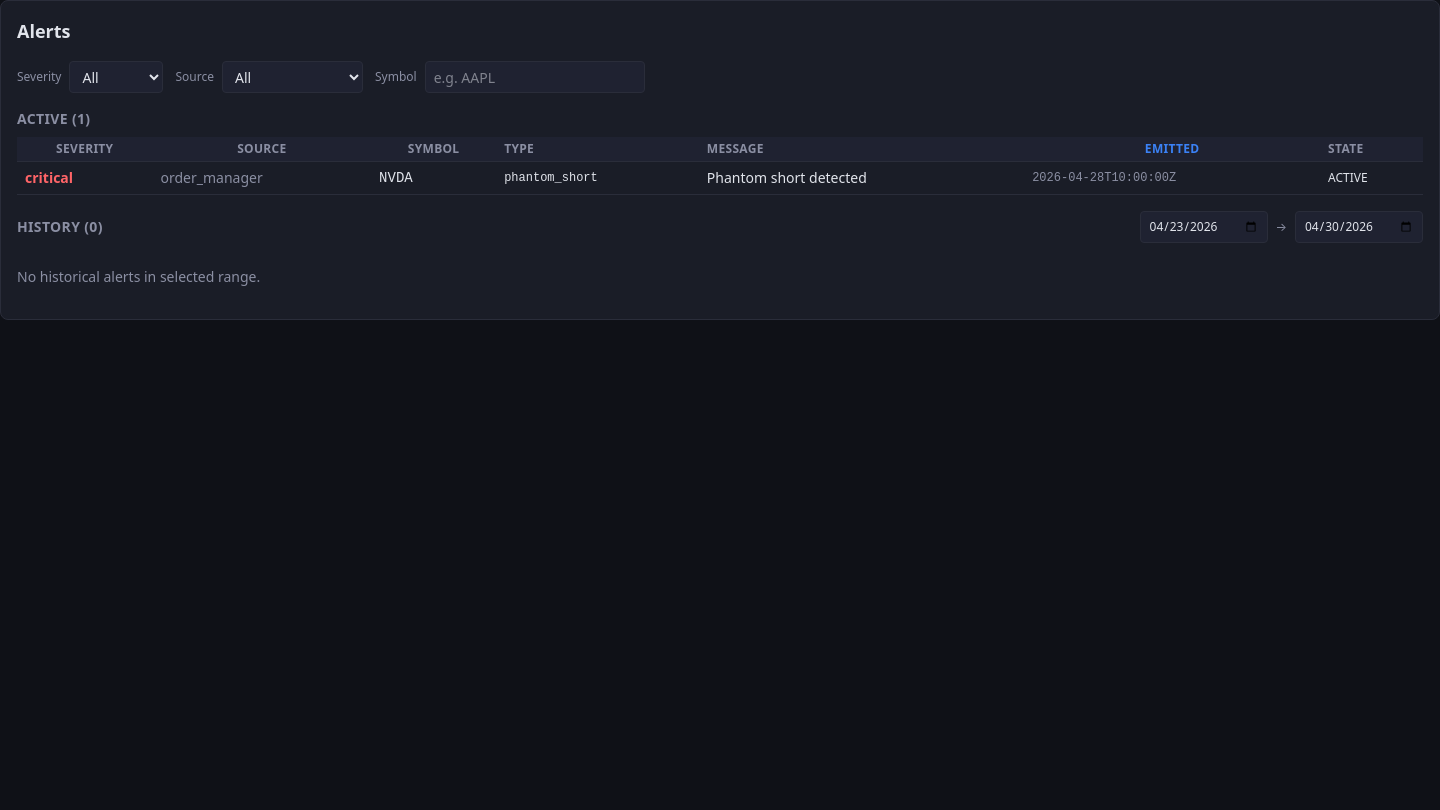
Scenario: AlertsPanel › opens detail view with metadata and audit trail when a row is clicked
Click the button with test id "alerts-table-active-row-detail-1".
click(720, 178)  # box [17,162,1423,194]
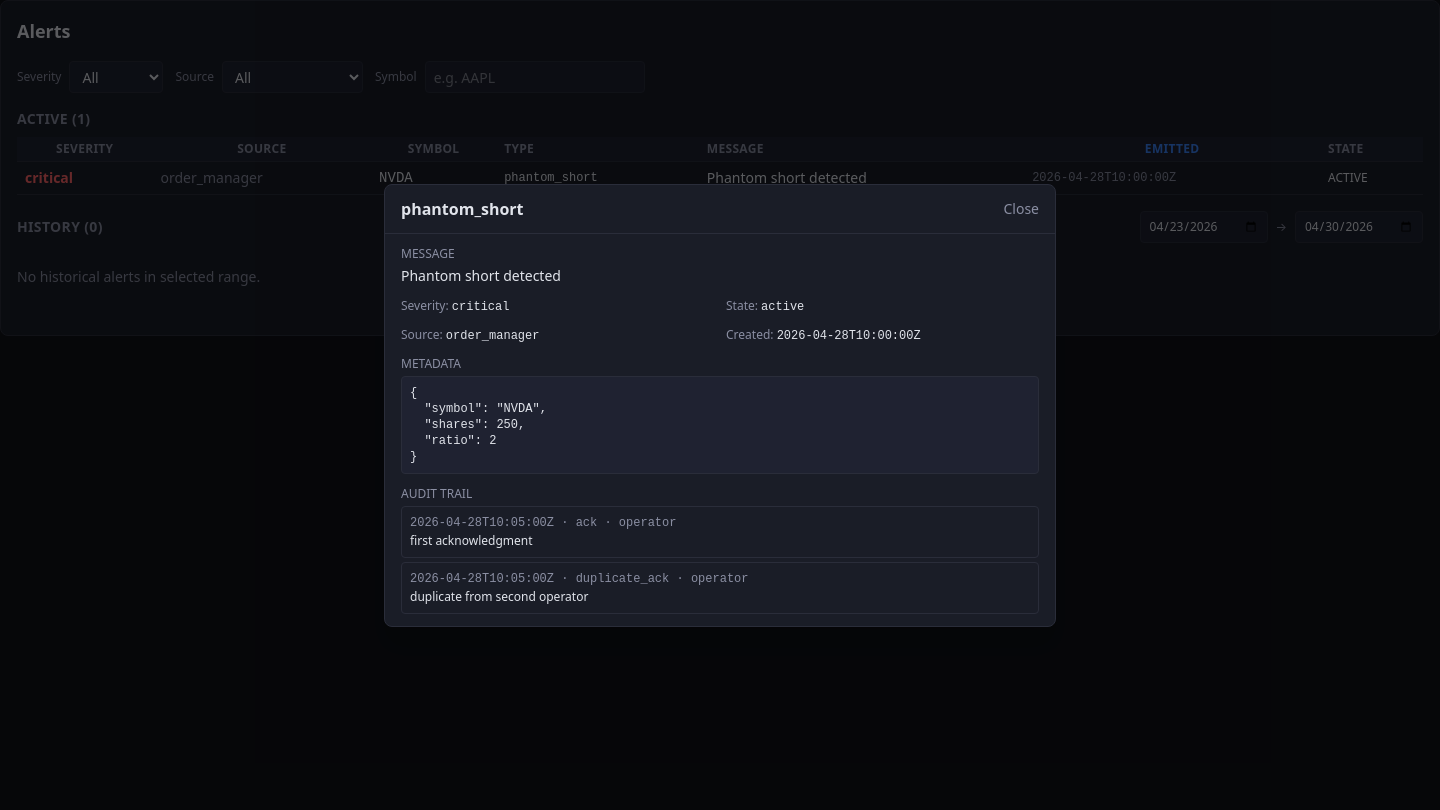
Result: the dialog with test id "alert-detail-view" is shown
Result: the text with test id "alert-detail-metadata" shows "NVDA" at [410,386,547,464]
Result: the text with test id "alert-detail-metadata" shows "250" at [410,386,547,464]
